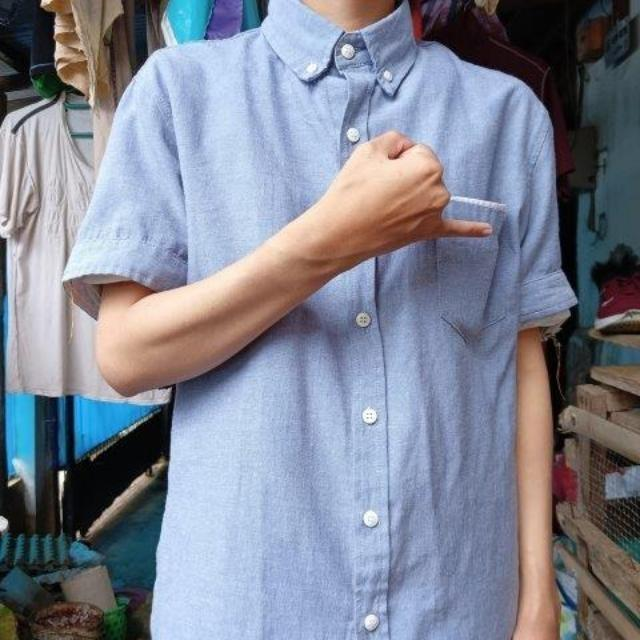J: (316, 122, 504, 254)
